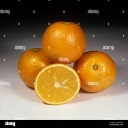orange: (71, 50, 118, 94), (34, 63, 81, 105), (41, 20, 85, 62), (17, 48, 59, 90)
